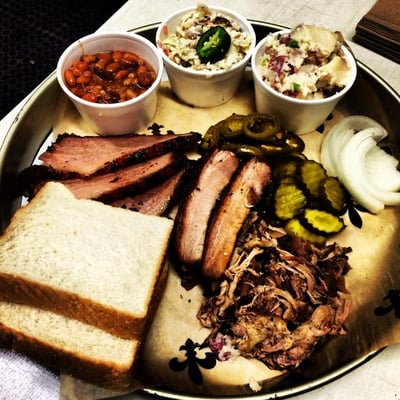soup: (0, 180, 175, 385)
sushi: (251, 25, 357, 135), (55, 32, 163, 137), (156, 3, 255, 108)
